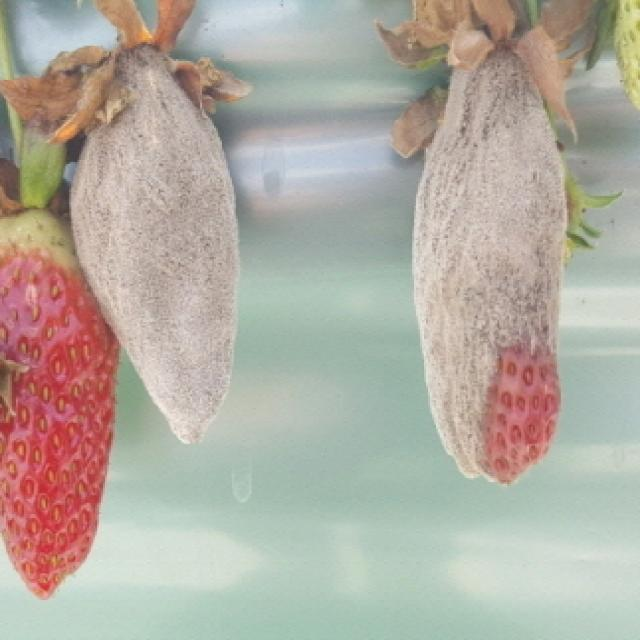Gray Mold: (410, 44, 569, 485), (69, 43, 239, 444)
